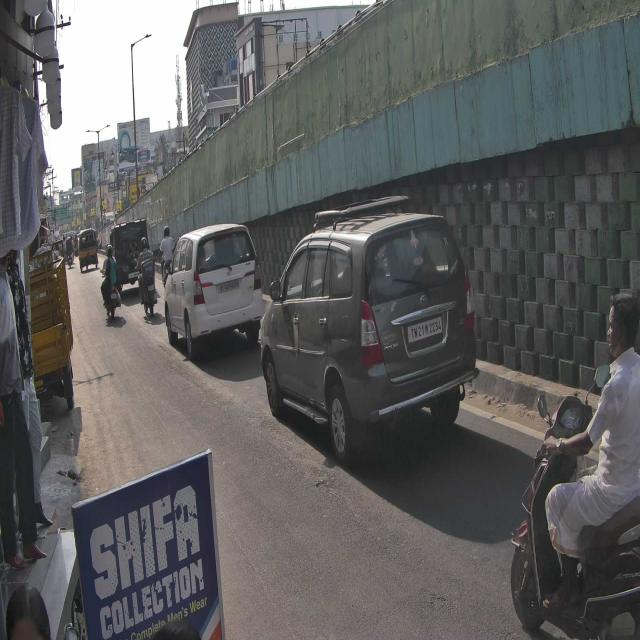single_rider: (510, 284, 640, 640)
